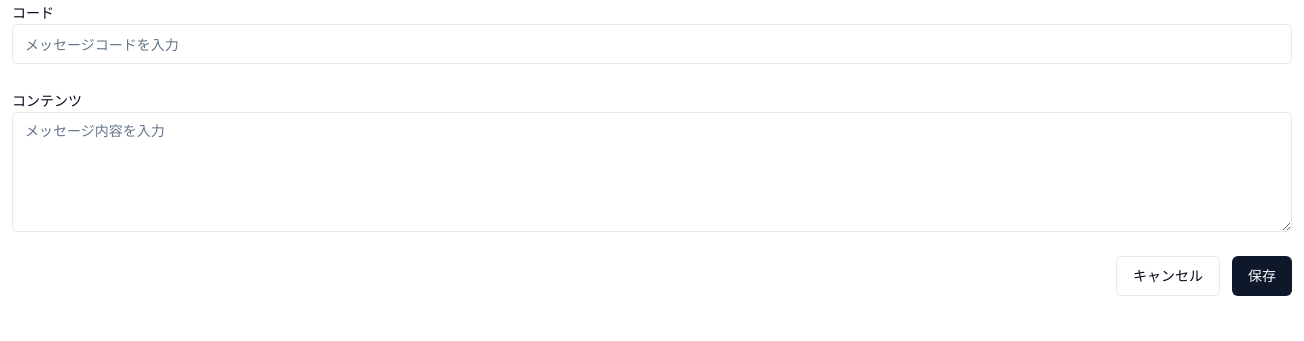
Test: MessageForm › バリデーション › contentが空の場合、エラーメッセージを表示する
Step 1. Type "TEST001" into the field with test id "message-code-input" → {"x": 652, "y": 44}, box [12,24,1292,64]
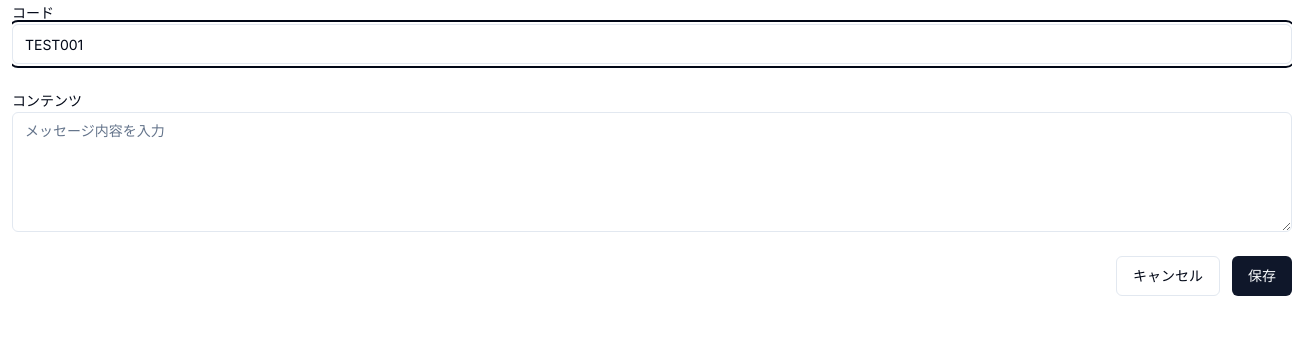
Step 2. Click the button with test id "message-form-submit" → {"x": 1262, "y": 276}, box [1232,256,1292,296]
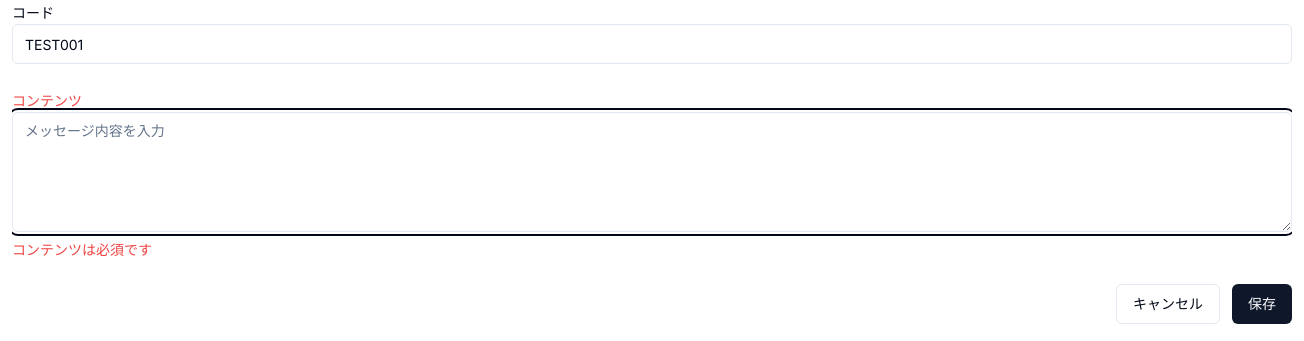
Result: the text "コンテンツは必須です" is shown at [12,241,152,258]
